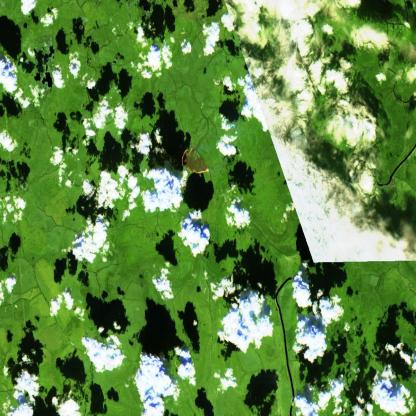fire: (178, 140, 213, 184)
